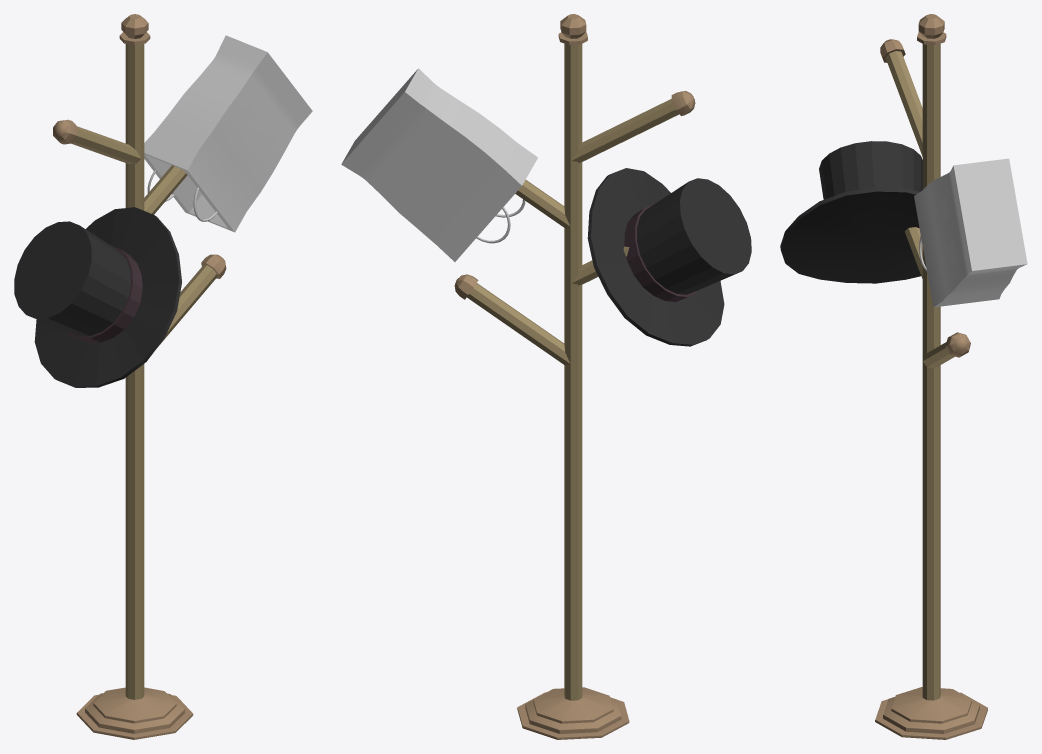
The model's file is hanger_hat_bag.fbx.
The picture shows the model from 3 angles, left to right: view 1: azimuth 30°, elevation 25°; view 2: azimuth 150°, elevation 25°; view 3: azimuth 270°, elevation 25°; orthographic projection.
Visible parts, largest first — view 1: pCylinder12; view 2: pCylinder12; view 3: pCylinder12.
Boxes of the visible parts, x1,y1,x2,y2 form: pCylinder12: [14, 14, 312, 739]; pCylinder12: [341, 14, 751, 739]; pCylinder12: [780, 14, 1027, 739].
Bounding box in the file's own units: 5.03 × 9.97 × 3.19.
